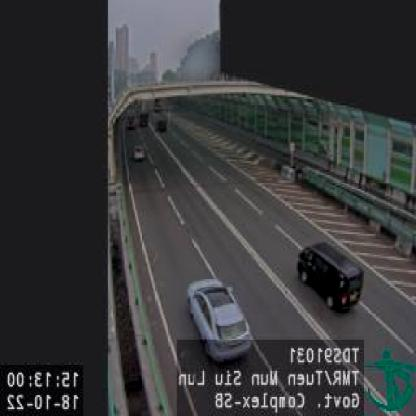Car: (187, 280, 253, 362), (296, 242, 363, 313), (131, 142, 144, 161), (156, 116, 167, 131), (126, 114, 136, 129)
Truck: (138, 109, 148, 128)
